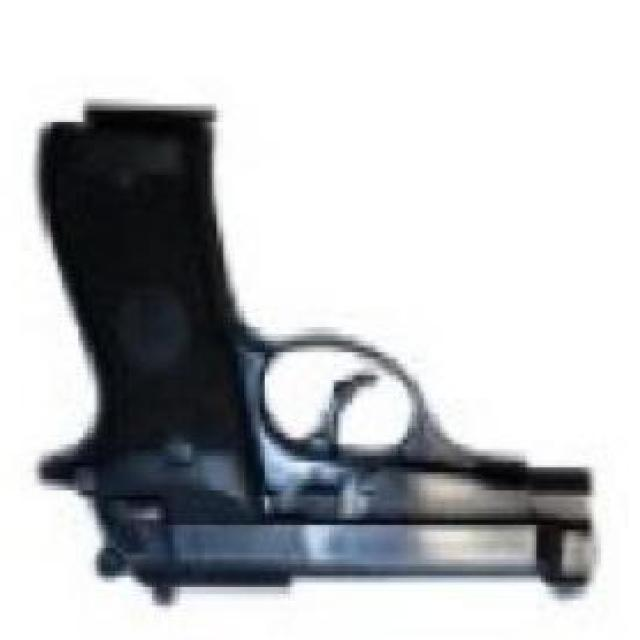pistol: (30, 88, 600, 622)
